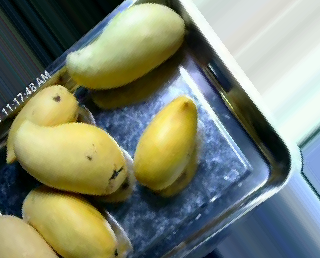Mango: (67, 2, 185, 99), (11, 121, 133, 199), (23, 183, 125, 257), (129, 93, 204, 187), (7, 85, 87, 171)
